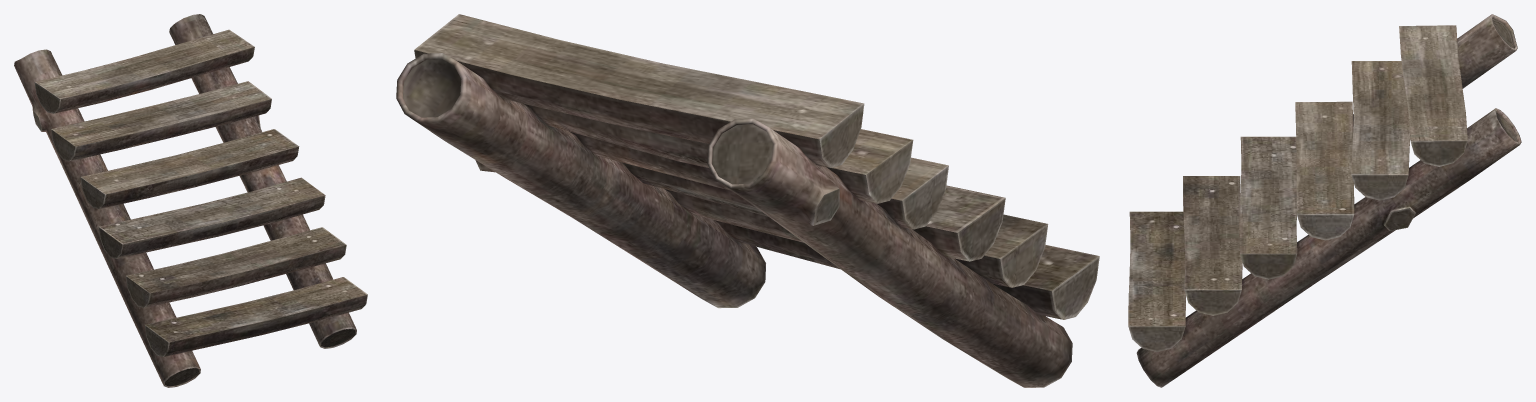
The model's file is Log_Stairs_Medium.fbx.
3 renders of one model, left to right at view 1: azimuth 30°, elevation 25°; view 2: azimuth 150°, elevation 25°; view 3: azimuth 270°, elevation 25°, orthographic. The views are drawn at different scales.
Visible parts, largest first — view 1: LogStaris_02_GEO; view 2: LogStaris_02_GEO; view 3: LogStaris_02_GEO.
Part boxes in pixels (x1,y1,x2,y2): LogStaris_02_GEO: (14,14,367,387); LogStaris_02_GEO: (396,14,1099,387); LogStaris_02_GEO: (1128,14,1521,387).
Size of the model in its own units: 109 by 120 by 153.
